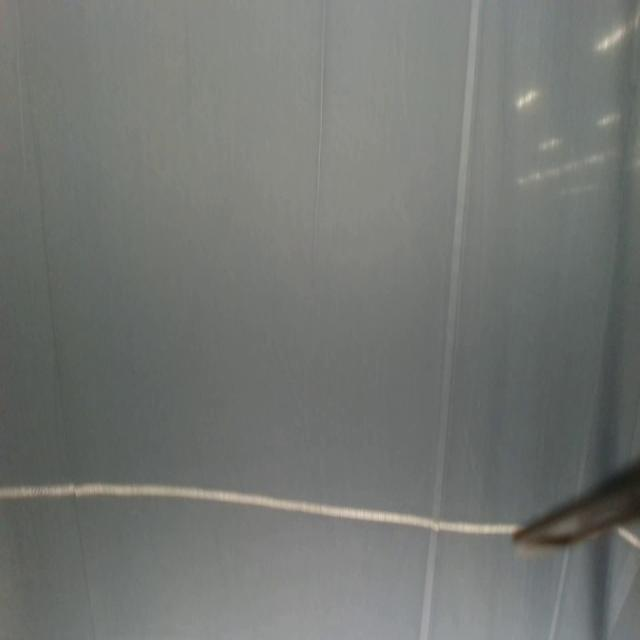crease: (18, 0, 95, 640), (418, 1, 485, 640), (308, 2, 328, 264)
